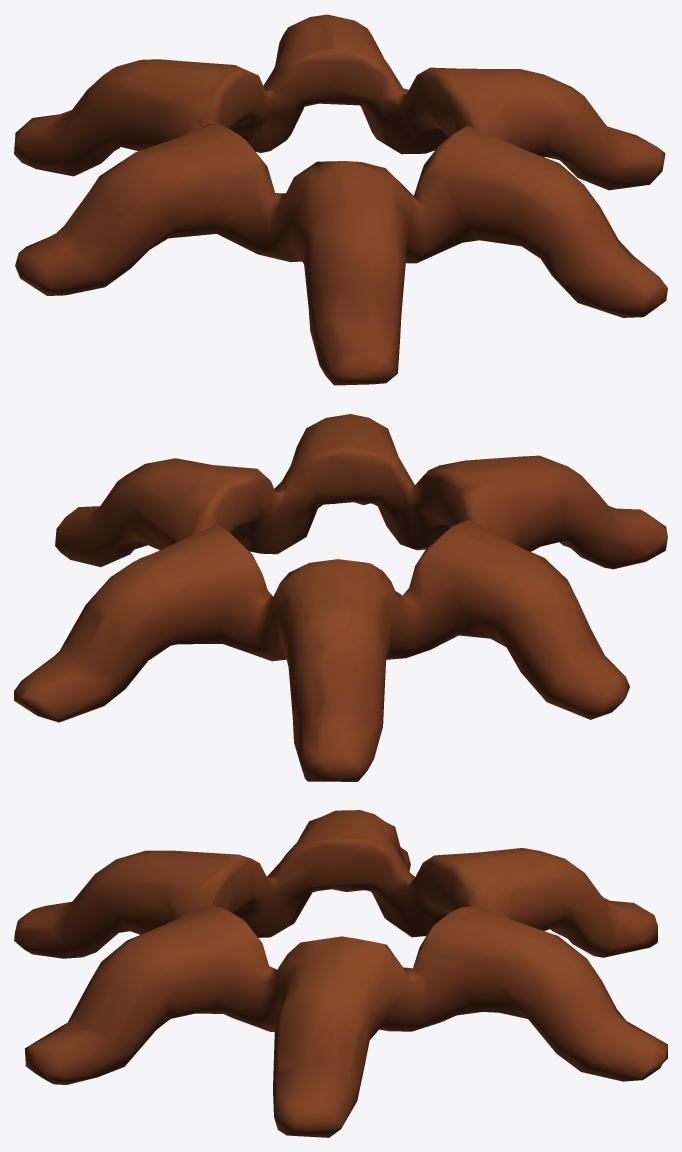
Rendered from pro_roots-TC_hbGaU.glb.
The picture shows the model from 3 angles, top to bottom: view 1: azimuth 30°, elevation 25°; view 2: azimuth 150°, elevation 25°; view 3: azimuth 270°, elevation 25°; orthographic projection. The views are drawn at different scales.
Visible parts, largest first — view 1: tripo_node_0834a991-d097-4eb4-a8b6-6ef94b071617; view 2: tripo_node_0834a991-d097-4eb4-a8b6-6ef94b071617; view 3: tripo_node_0834a991-d097-4eb4-a8b6-6ef94b071617.
Part boxes in pixels (x1,y1,x2,y2): tripo_node_0834a991-d097-4eb4-a8b6-6ef94b071617: (14,14,667,385); tripo_node_0834a991-d097-4eb4-a8b6-6ef94b071617: (14,414,667,781); tripo_node_0834a991-d097-4eb4-a8b6-6ef94b071617: (14,810,667,1137).
Size of the model in its own units: 1 by 0.2048 by 0.9908.
Materials: 1 (1 with a texture image).
